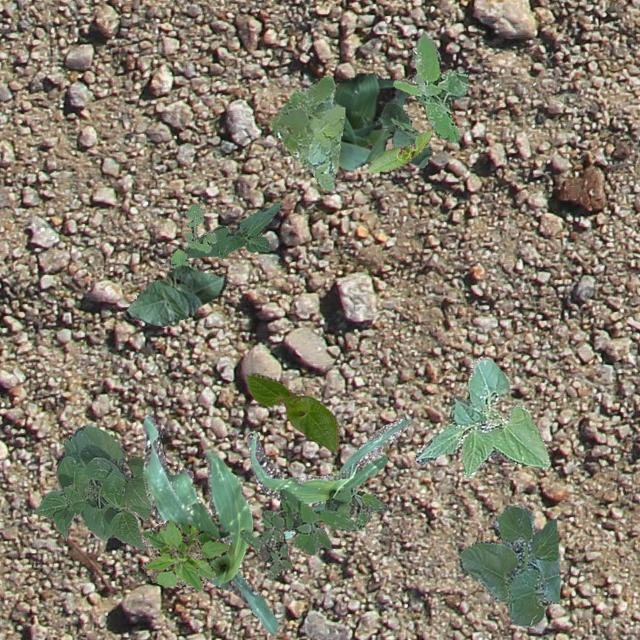crop: (142, 416, 276, 634), (245, 418, 410, 538), (414, 356, 548, 478), (34, 426, 152, 550), (458, 504, 558, 626), (332, 70, 416, 170), (245, 372, 338, 451), (122, 264, 225, 326), (186, 200, 280, 258), (379, 102, 432, 166), (366, 130, 430, 172)
weed: (238, 488, 386, 578), (268, 74, 344, 190), (392, 32, 468, 140), (140, 518, 228, 590), (168, 202, 216, 268)
